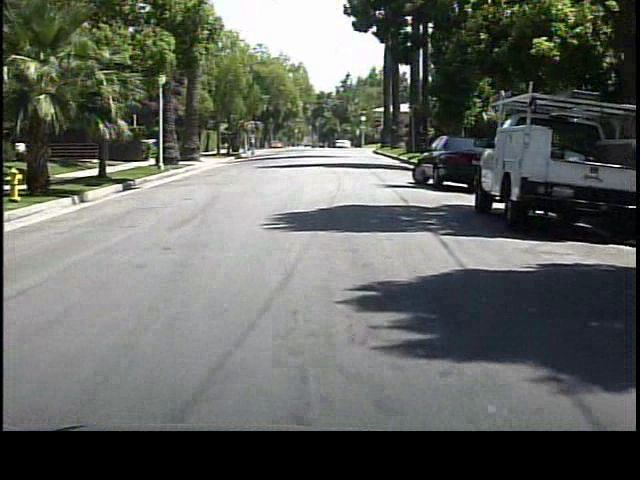person: (248, 129, 261, 158)
